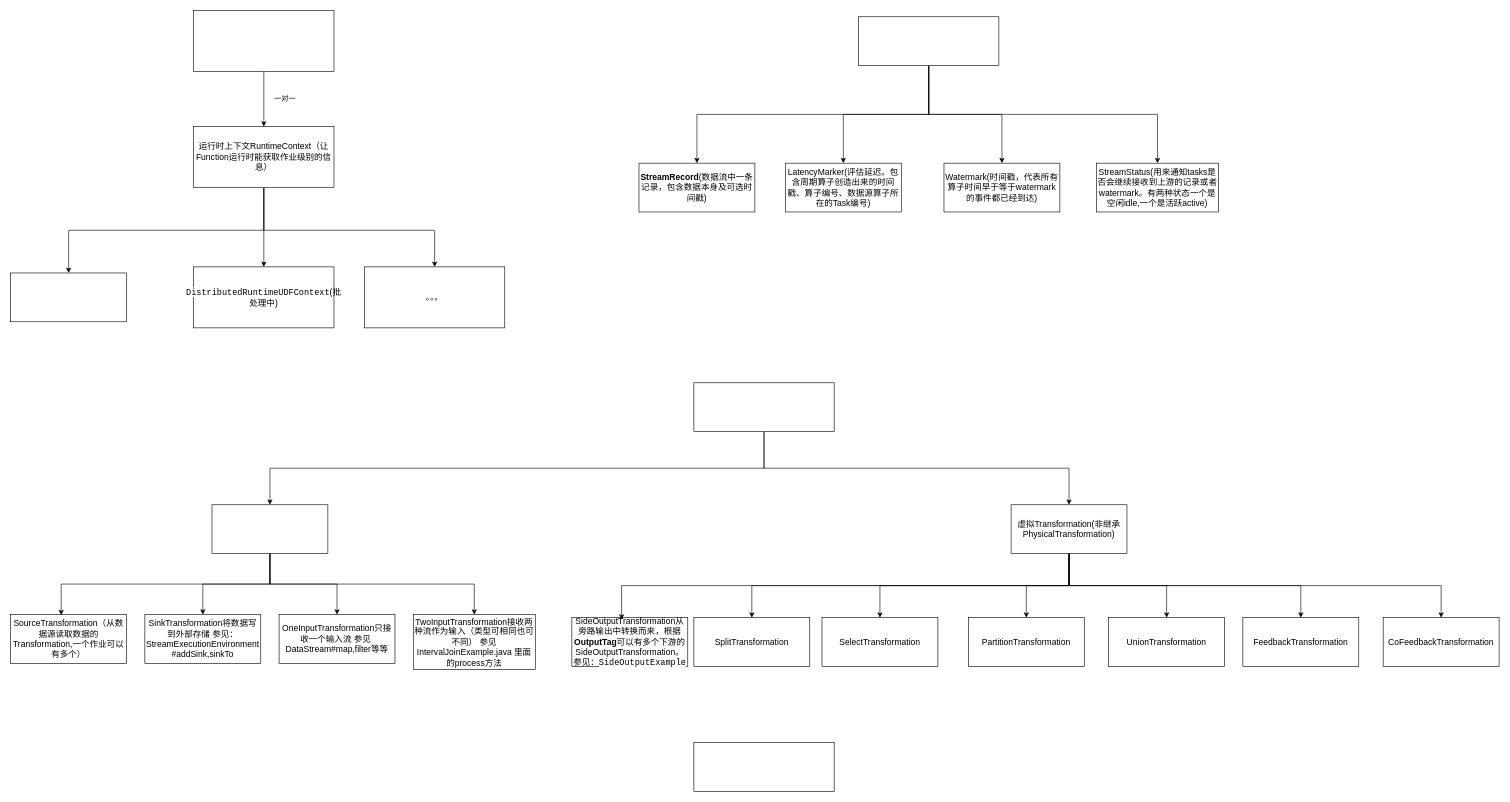
The diagram is 1510 pixels wide and 802 high, and some of its shapes have lost their labels. The shapes that lost their labels are listed below. From the top down, each one's box as (x1, y1, x2, y2) in pixels, then its label:
(193, 10, 334, 72): RichFunction接口
(858, 16, 999, 66): 3.2 StreamElement数据流元素抽象类（执行时序列化为二进制，反序列化为对应类型）
(10, 272, 127, 322): StreamingRuntimeContext(流计算中)
(693, 382, 834, 432): 3.3 数据转换Transformation( 衔接DataStream API（面向开发者）和Flink内核的逻辑结构 )-关注一些属性
(211, 504, 328, 554): 物理Transformation(继承PhysicalTransformation)
(693, 742, 834, 791): 3.4 算子StreamOperator
